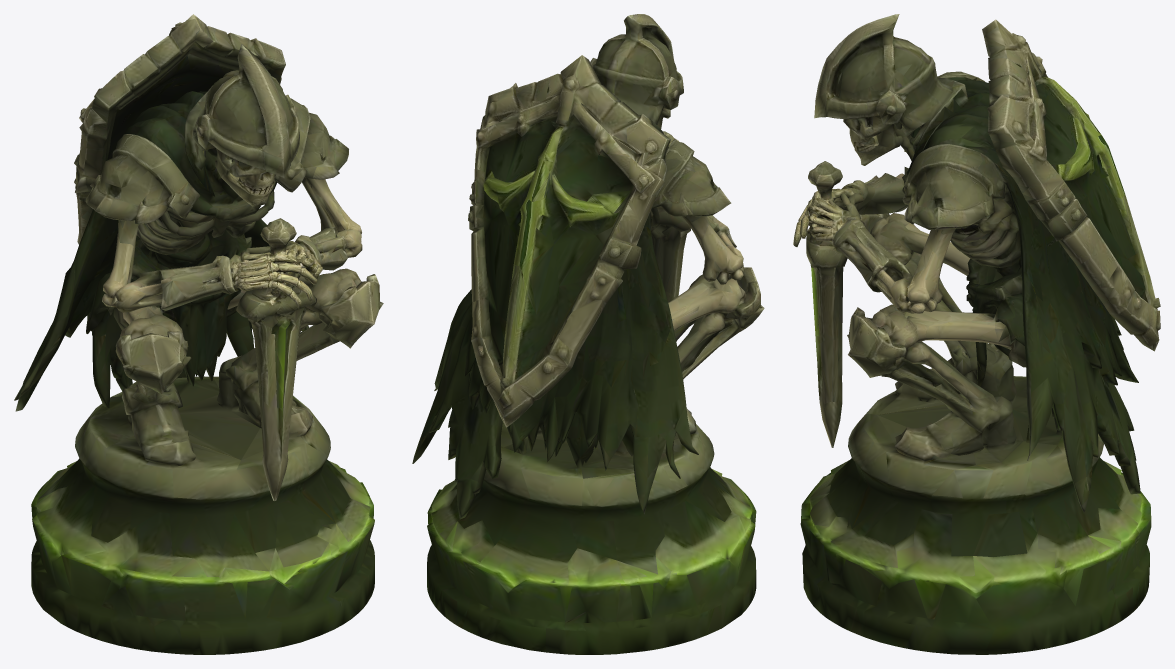
The model's file is skeleton.glb.
The picture shows the model from 3 angles, left to right: view 1: azimuth 30°, elevation 25°; view 2: azimuth 150°, elevation 25°; view 3: azimuth 270°, elevation 25°; orthographic projection. The views are drawn at different scales.
Parts seen in each view (by area): view 1: Mesh_0; view 2: Mesh_0; view 3: Mesh_0.
Boxes of the visible parts, x1=… form: Mesh_0: x1=14, y1=14, x2=383, y2=654; Mesh_0: x1=412, y1=14, x2=764, y2=654; Mesh_0: x1=793, y1=14, x2=1160, y2=654.
Size of the model in its own units: 0.5581 by 1 by 0.586.
Materials: 1 (1 with a texture image).
